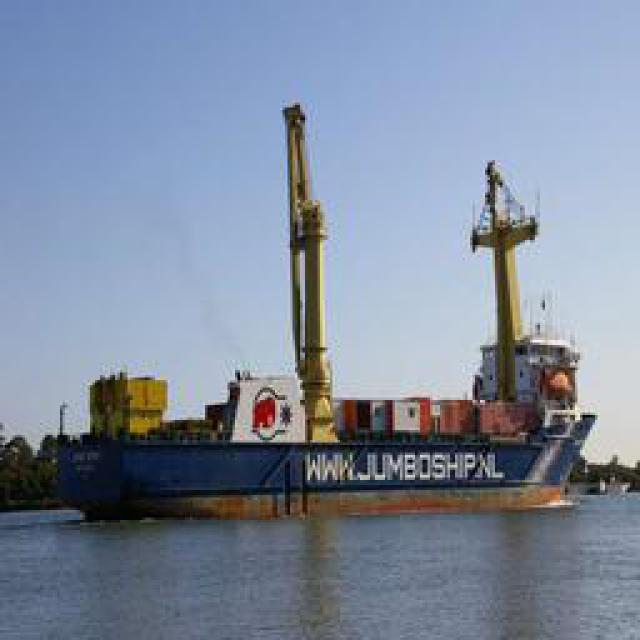Ship: (56, 97, 604, 522)
